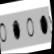correct: (11, 19, 23, 41)
not correct: (37, 13, 53, 41)
